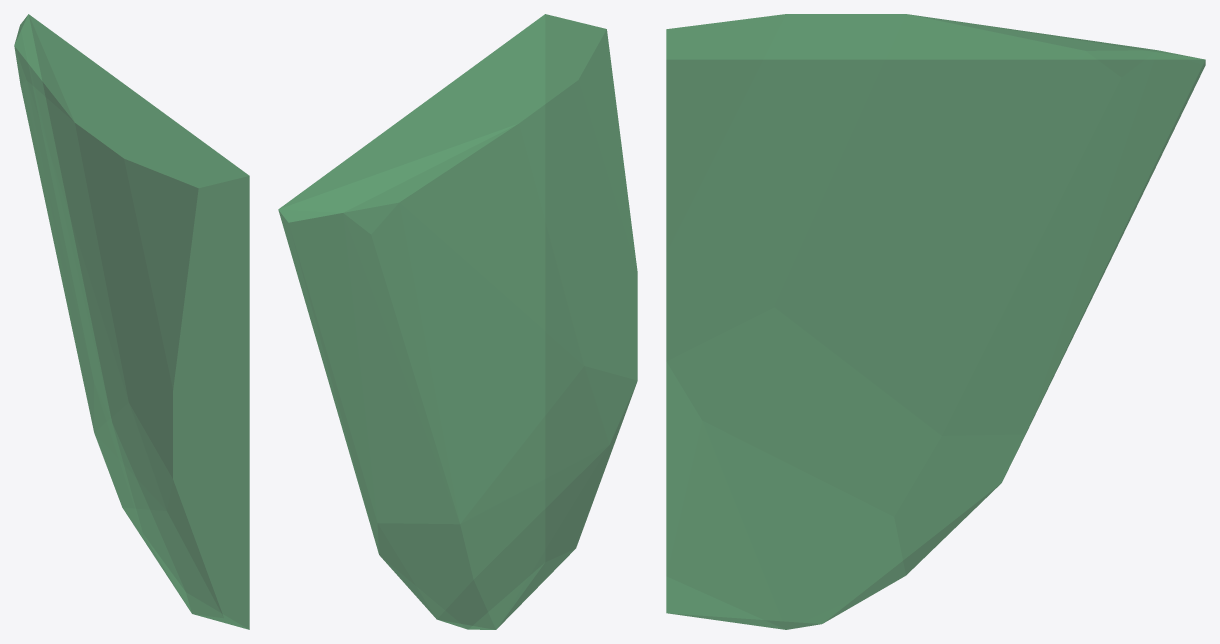
3 views of the same model, side by side, from view 1: azimuth 30°, elevation 25°; view 2: azimuth 150°, elevation 25°; view 3: azimuth 270°, elevation 25° (orthographic). The views are drawn at different scales.
Parts seen in each view (by area): view 1: Shape_IndexedFaceSet.008_Shape_IndexedFaceSet.7759; view 2: Shape_IndexedFaceSet.008_Shape_IndexedFaceSet.7759; view 3: Shape_IndexedFaceSet.008_Shape_IndexedFaceSet.7759.
Boxes of the visible parts, x1=… form: Shape_IndexedFaceSet.008_Shape_IndexedFaceSet.7759: x1=14, y1=14, x2=249, y2=629; Shape_IndexedFaceSet.008_Shape_IndexedFaceSet.7759: x1=278, y1=14, x2=637, y2=629; Shape_IndexedFaceSet.008_Shape_IndexedFaceSet.7759: x1=666, y1=14, x2=1205, y2=629.
Bounding box in the file's own units: 0.0123 × 0.0724 × 0.0614.
